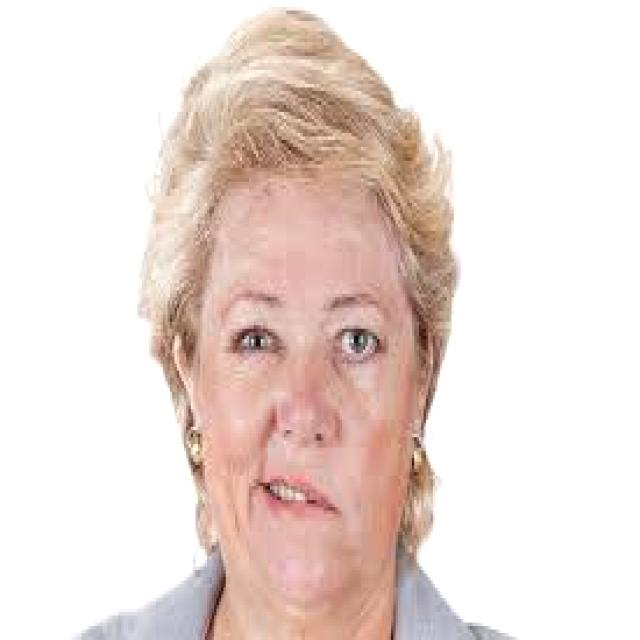stroke_face: (176, 68, 441, 609)
